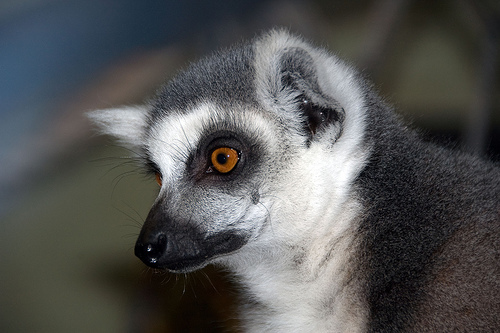cat: (82, 28, 499, 332)
